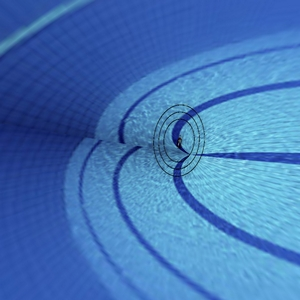circle: (150, 97, 210, 186)
submarine: (172, 133, 185, 151)
